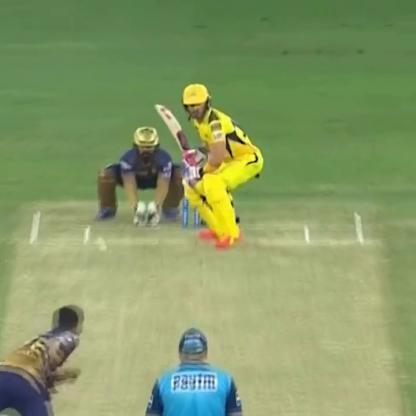ball: (94, 244, 116, 255), (90, 234, 109, 244)
bat: (149, 93, 203, 170)
pitch: (2, 202, 416, 416)
